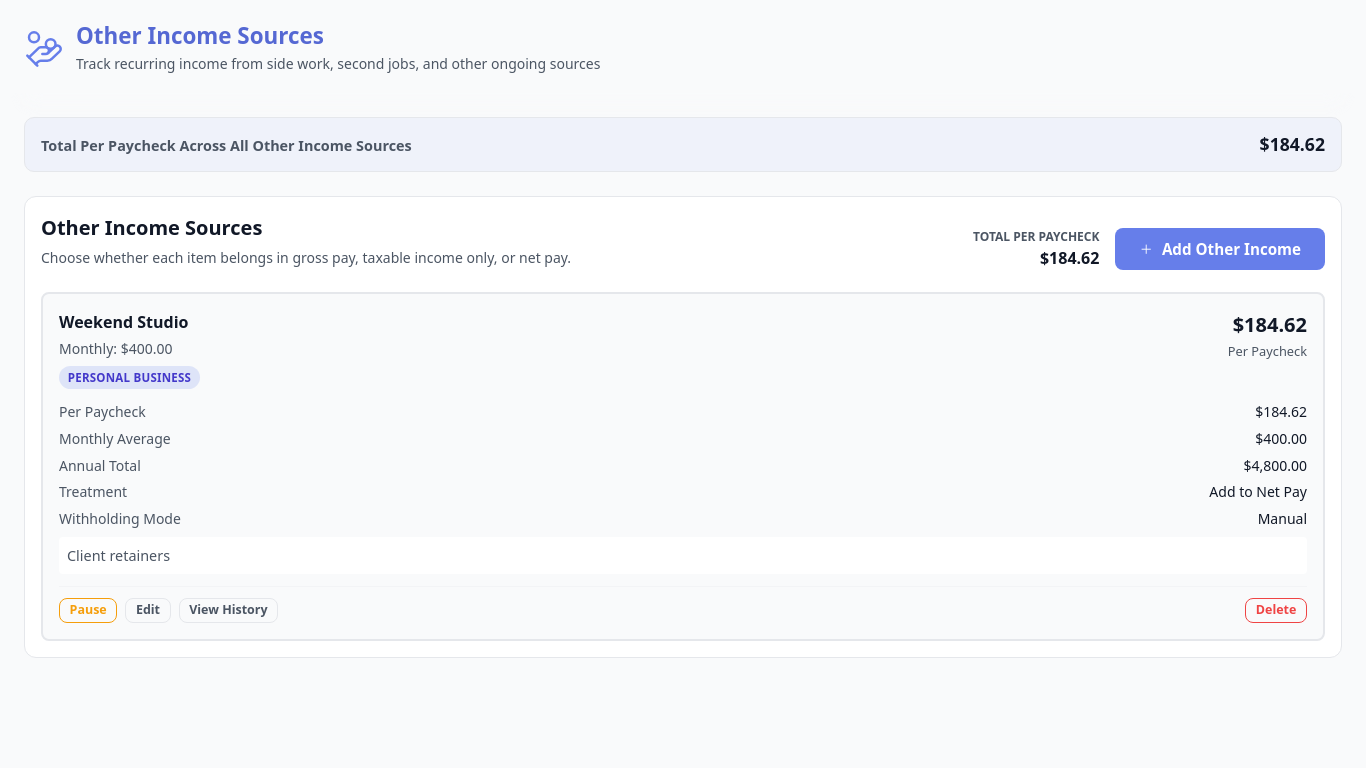
Scenario: OtherIncomeManager › validates percent-of-gross guardrails
The width and height of the screenshot is (1366, 768).
Click the button "Add Other Income".
click(1220, 249)  # box 1115,228 -> 1325,270
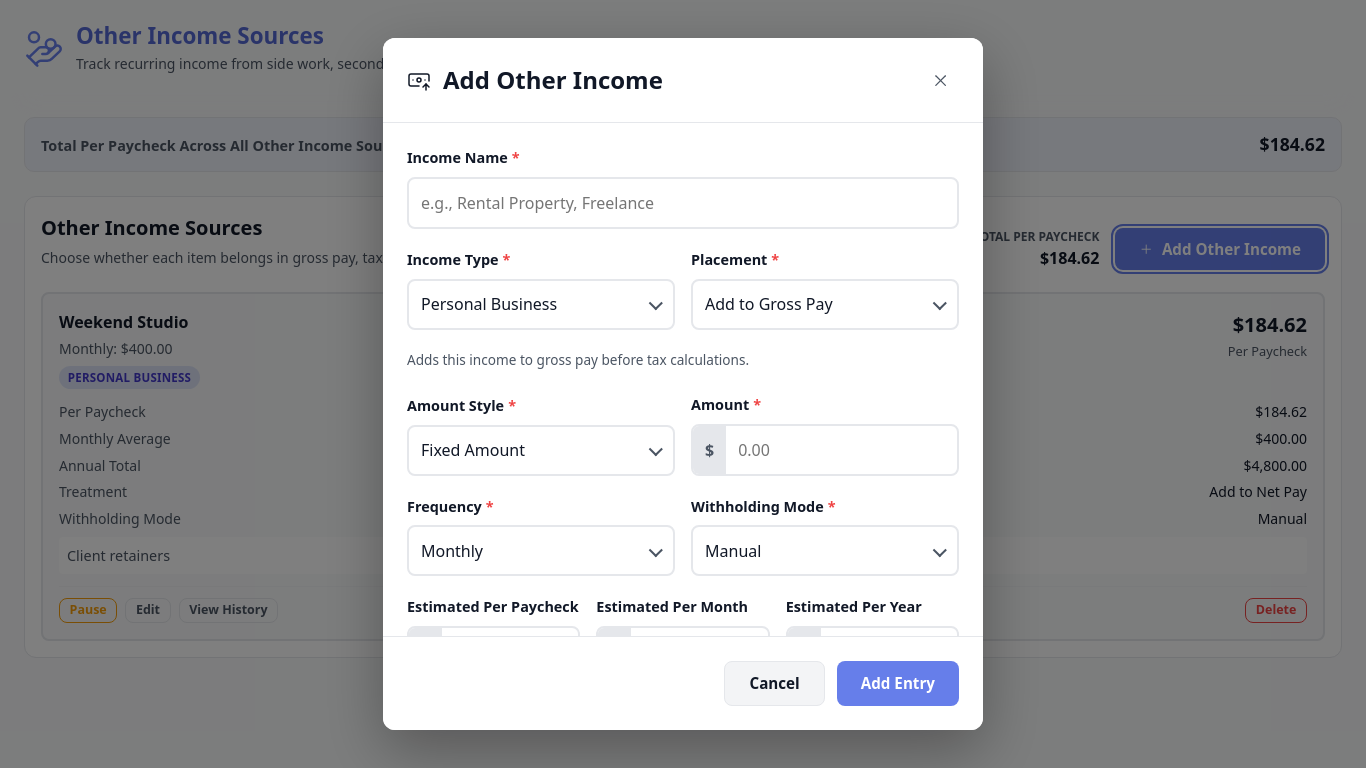
Type "Side Hustle" into the field with placeholder "e.g., Rental Property, Freelance".
click(683, 203); type("Side Hustle")  # box 407,177 -> 959,229
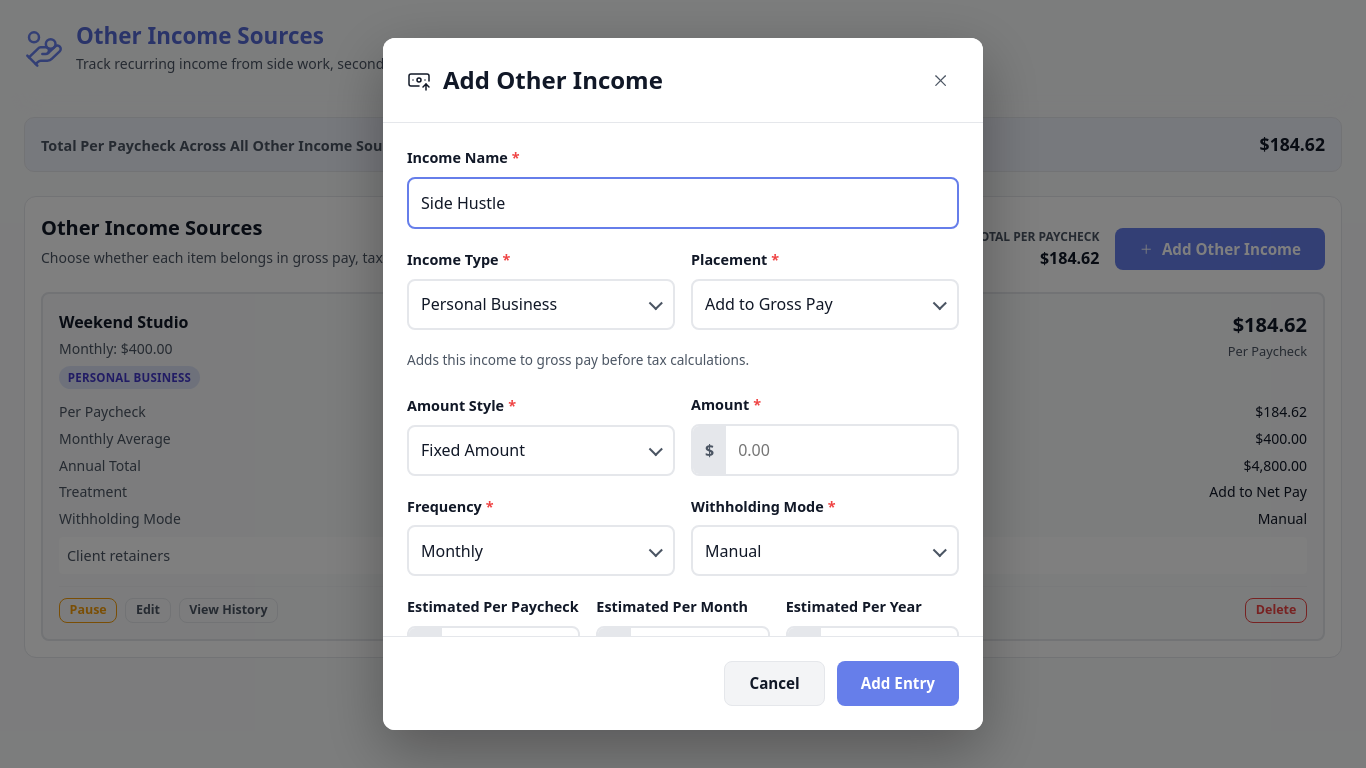
Select "Percent of Gross Pay" in the dropdown below "Amount Style" at (541, 450), box 407,425 -> 675,476
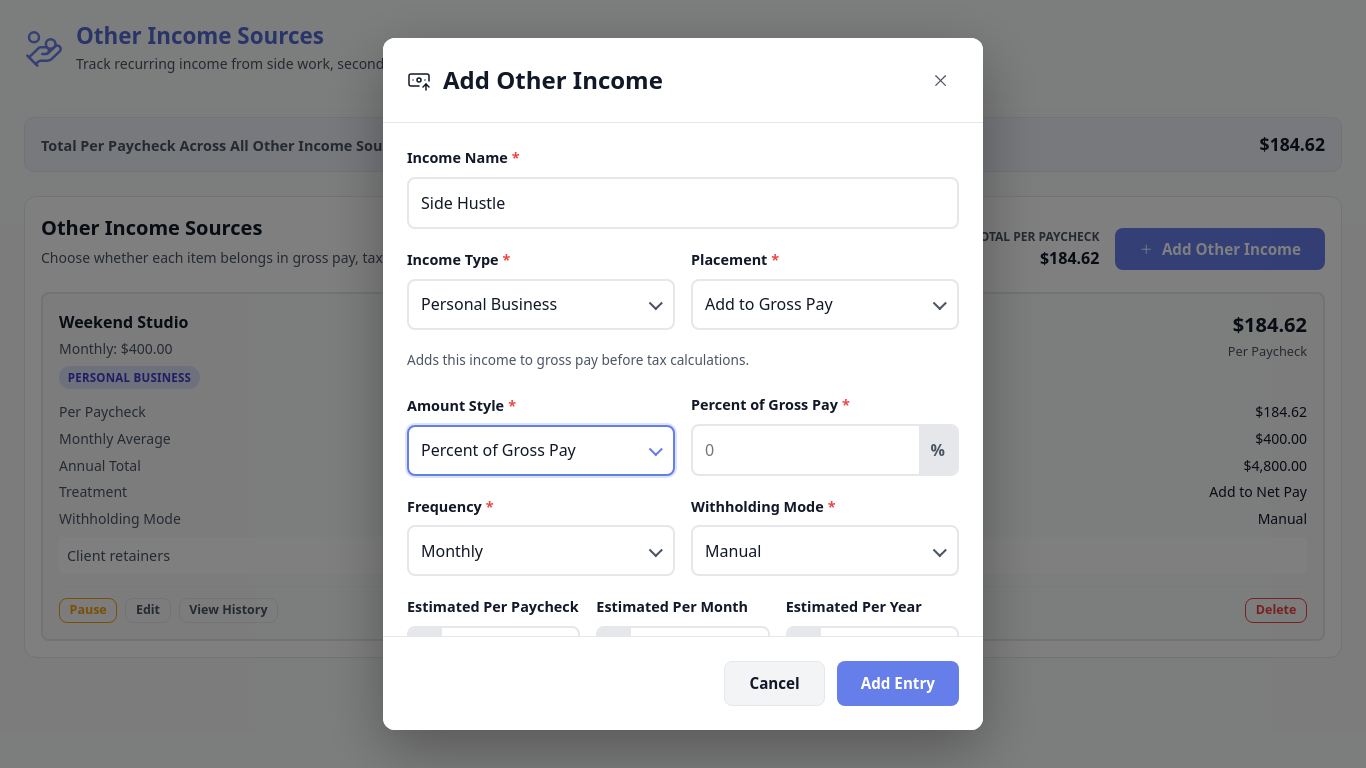
Type "130" into the number field with placeholder "0".
click(806, 450); type("130")  # box 693,426 -> 919,474
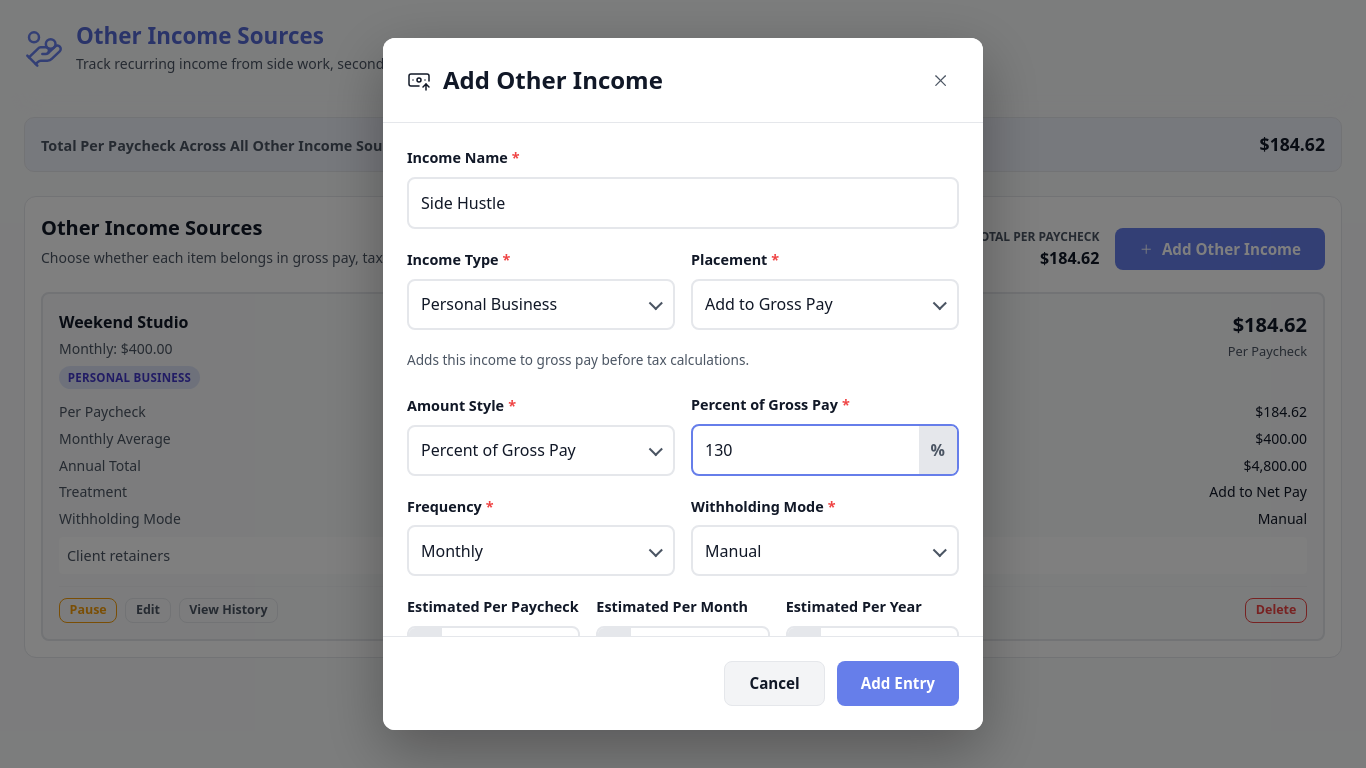
Click the button "Add Entry".
click(898, 684)  # box 837,661 -> 959,706
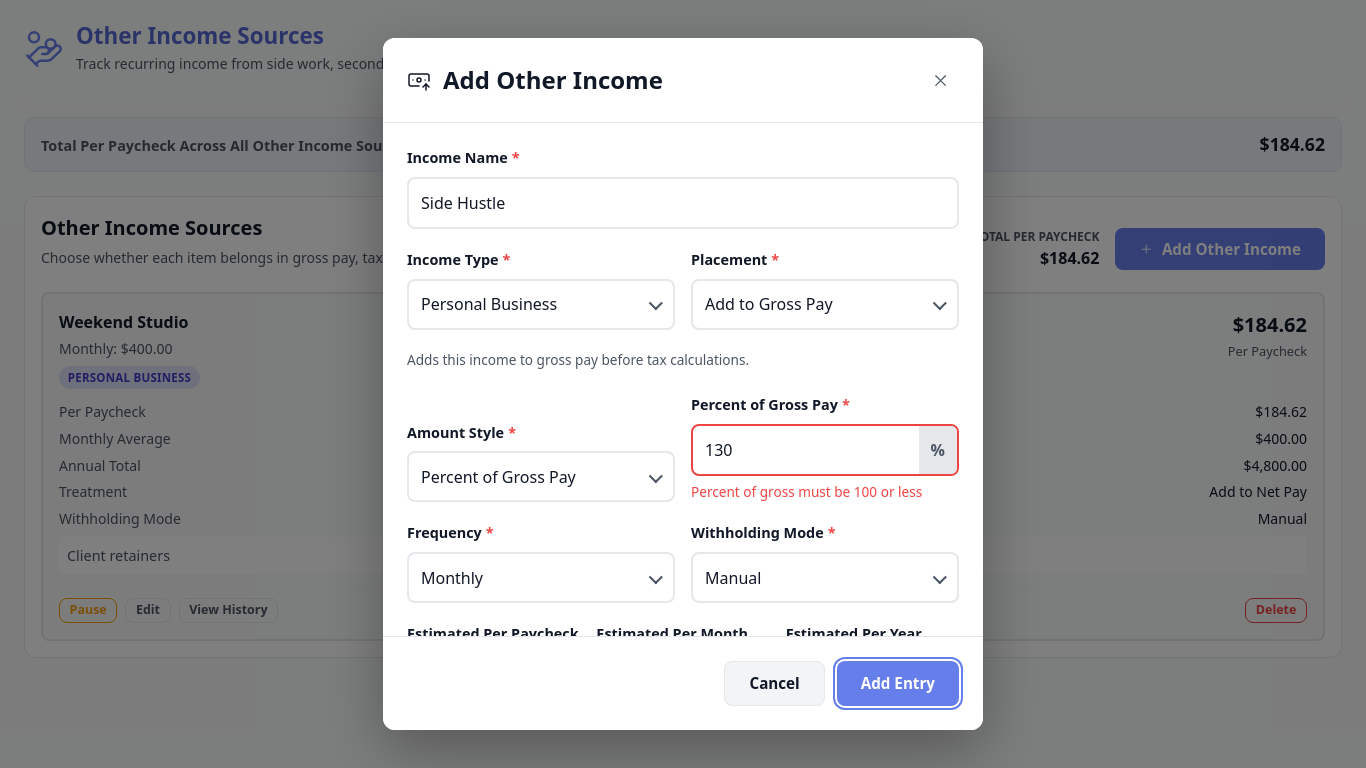
Check: the text "Percent of gross must be 100 or less" is shown, box 691,482 -> 959,502
